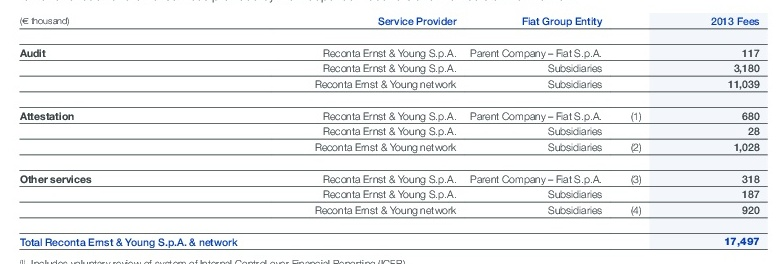table: (0, 0, 783, 264)
